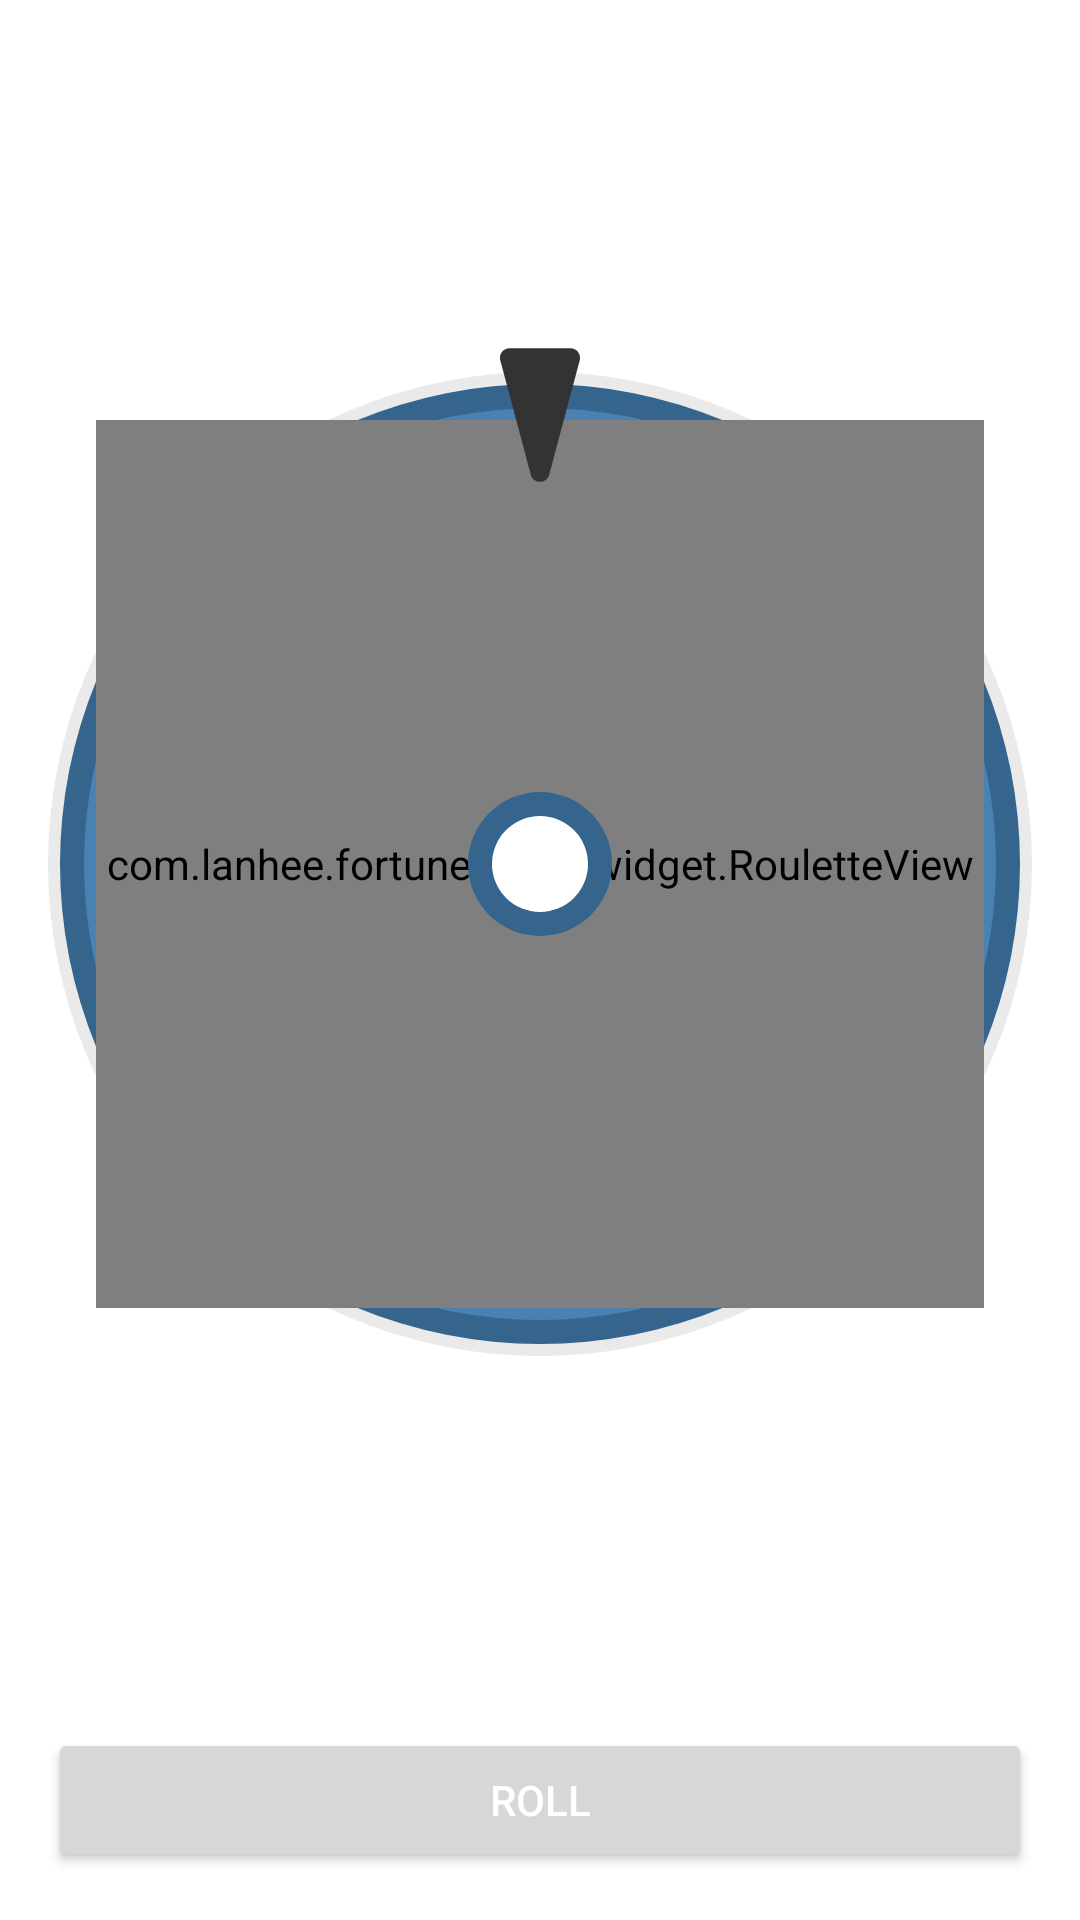

Screen size 1080x1920. Icon name, then its center in pixels as (x=x, y=y):
center: (x=540, y=864)
stopper: (x=540, y=420)
